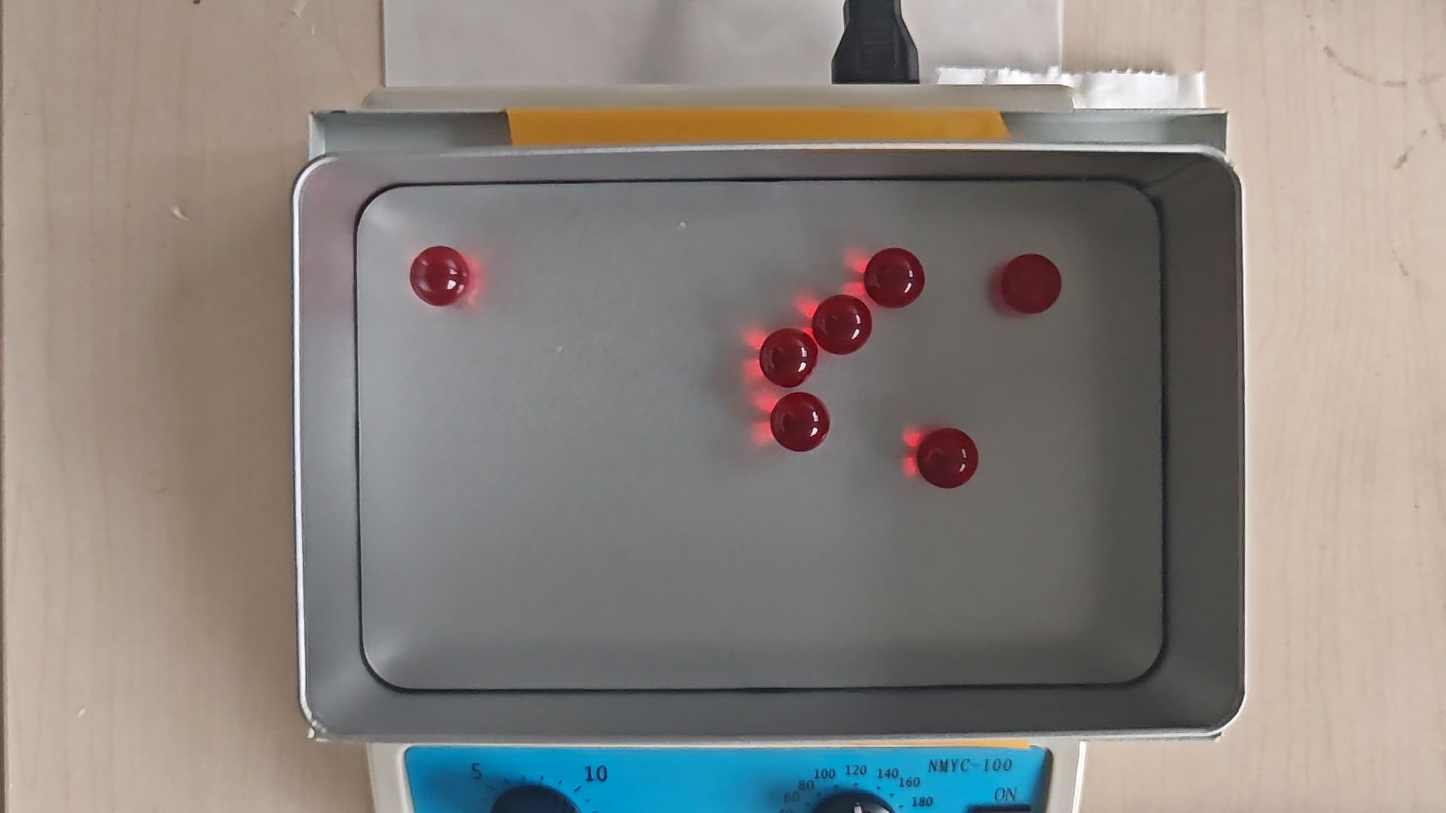ball: (999, 251, 1062, 315), (810, 294, 874, 355), (915, 428, 980, 488), (758, 327, 819, 390), (771, 392, 832, 454), (865, 247, 924, 309), (410, 245, 469, 306)
container: (358, 184, 1170, 689)
